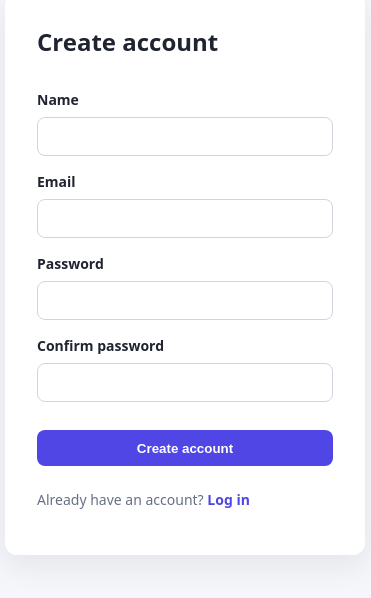
Register page › shows a friendly error when the email is already registered
In the field labelled "Name": (185, 136) [37,117,333,156], type "Ada Lovelace"
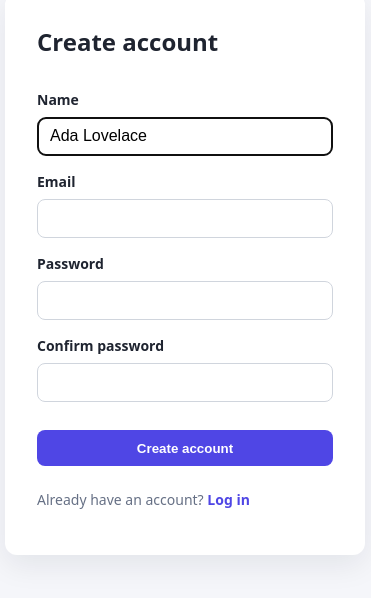
In the field labelled "Email": (185, 218) [37,199,333,238], type "ada@example.com"
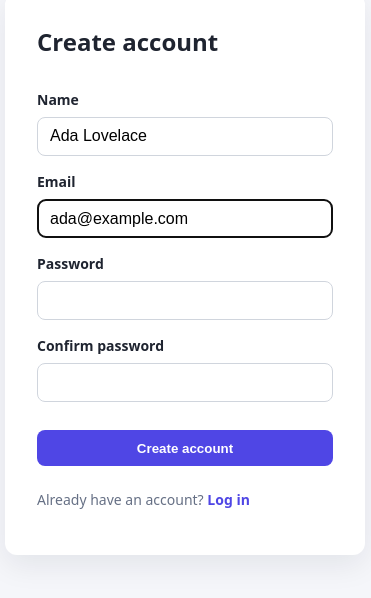
In the password field labelled "Password": (185, 301) [37,281,333,320], type "password123"
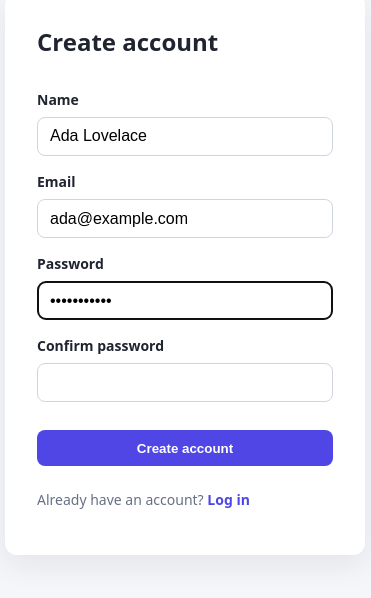
In the password field labelled "Confirm password": (185, 383) [37,363,333,402], type "password123"
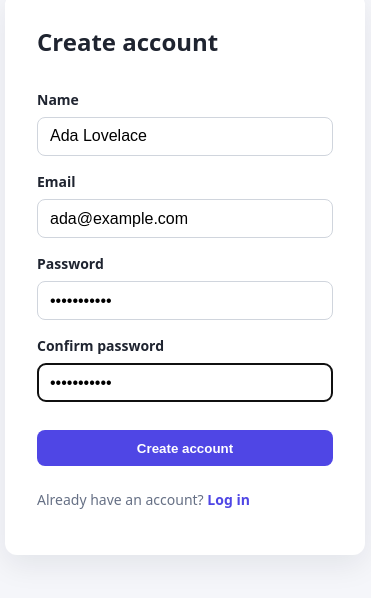
Click the button "Create account": (185, 448) [37,430,333,466]
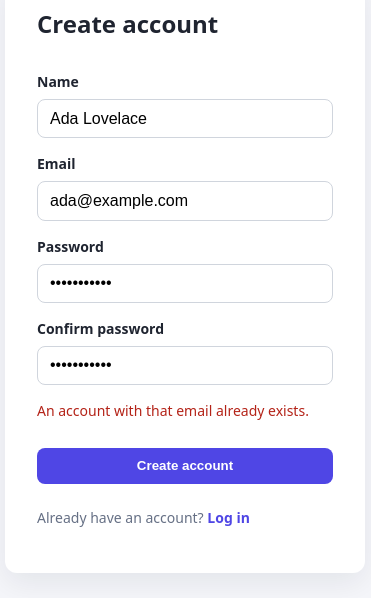
Check: the message shows "already exists", box [37,401,309,420]
